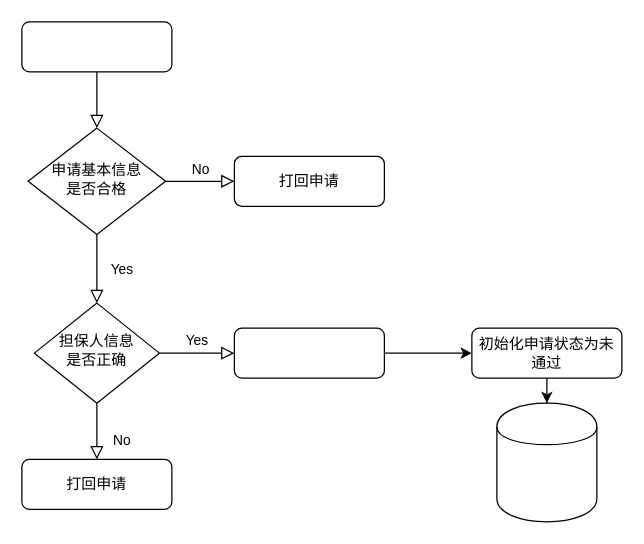
This 644x544 diagram has some shape labels left out. Here are the shapes that lost their labels. From the top down, the box of each, then its label:
(21, 21, 172, 72): 提交申请
(233, 327, 384, 378): 申请实例化
(496, 402, 597, 522): 申请池
